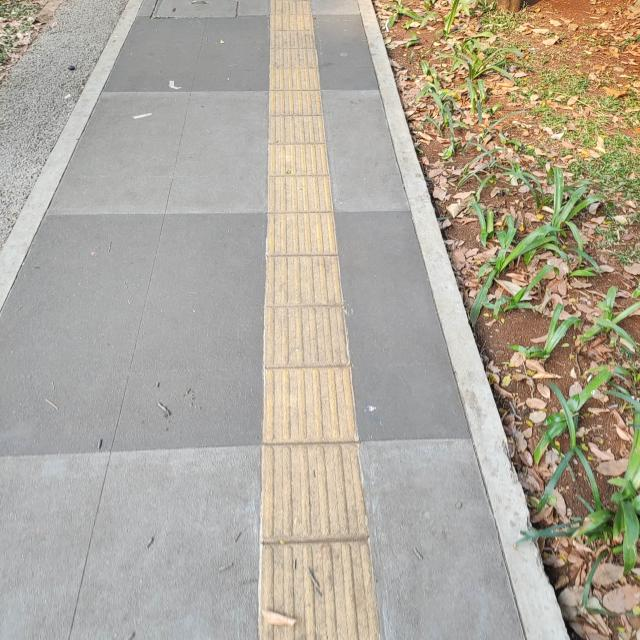lurus: (244, 15, 376, 640)
